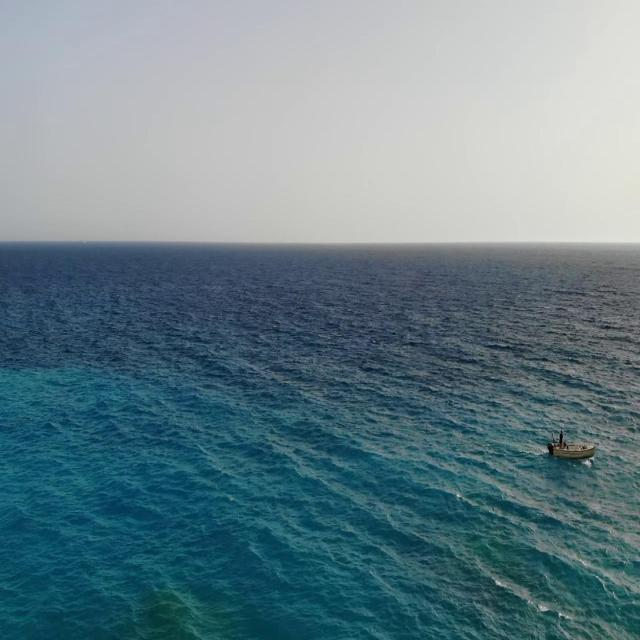boat: (547, 432, 597, 466)
